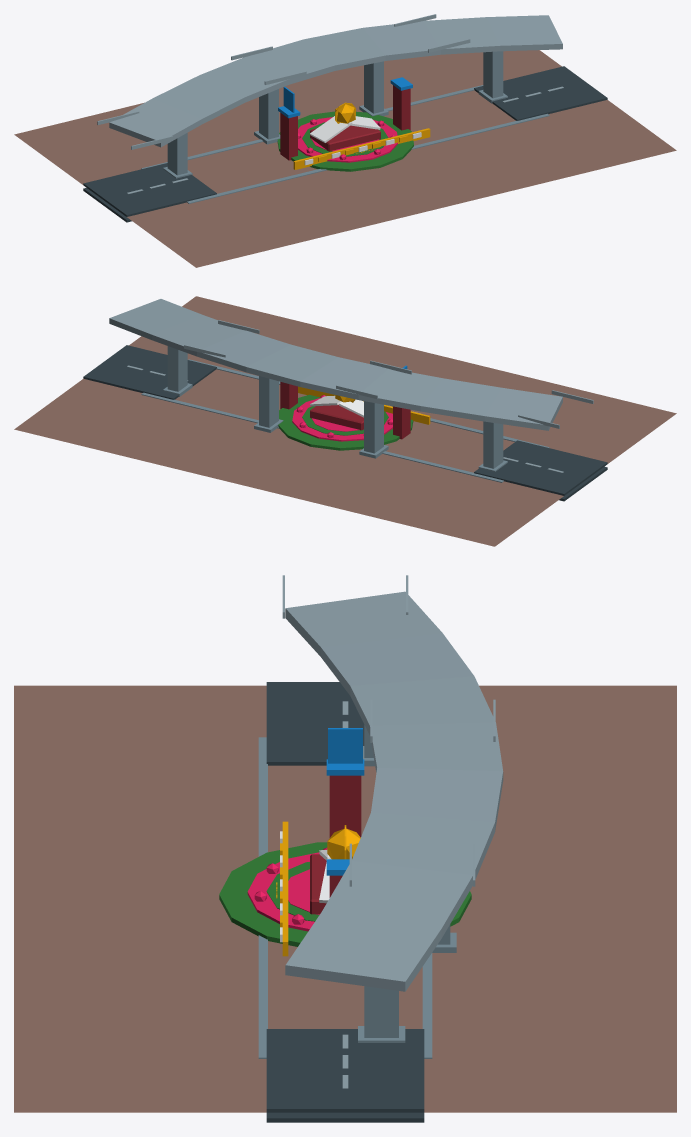
Rendered from cong_chinh.glb.
3 renders of one model, top to bottom at view 1: azimuth 30°, elevation 25°; view 2: azimuth 150°, elevation 25°; view 3: azimuth 270°, elevation 25°, orthographic. The views are drawn at different scales.
Parts seen in each view (by area): view 1: Cong_Ground, Cong_OverpassDeck, Cong_Approach_-1, Cong_Approach_1, Cong_Island, Cong_UnderWall_-1, Cong_Pier_5, Cong_FlowerOuter, Cong_MonumentBase, Cong_Pier_7, Cong_Pier_3, Cong_NamePlaque (+6 smaller); view 2: Cong_Ground, Cong_OverpassDeck, Cong_Approach_-1, Cong_Approach_1, Cong_Island, Cong_Pier_3, Cong_Pier_5, Cong_UnderWall_1, Cong_Pier_1, Cong_MonumentBase, Cong_Pier_7, Cong_FlowerOuter (+5 smaller); view 3: Cong_Ground, Cong_OverpassDeck, Cong_Approach_1, Cong_Approach_-1, Cong_Island, Cong_UnderWall_-1, Cong_Pillar_-1, Cong_UnderpassChannel, Cong_Pier_7, Cong_FlowerOuter, Cong_FactionBanner, Cong_UnderWall_1 (+2 smaller).
Part boxes in pixels (bbox=[...]): Cong_Ground: bbox=[14, 50, 676, 267]; Cong_OverpassDeck: bbox=[109, 15, 562, 147]; Cong_Approach_-1: bbox=[83, 163, 216, 216]; Cong_Approach_1: bbox=[474, 66, 607, 120]; Cong_Island: bbox=[277, 111, 413, 171]; Cong_UnderWall_-1: bbox=[187, 113, 549, 203]; Cong_Pier_5: bbox=[364, 61, 383, 113]; Cong_FlowerOuter: bbox=[298, 117, 397, 162]; Cong_MonumentBase: bbox=[310, 125, 380, 151]; Cong_Pier_7: bbox=[483, 51, 503, 98]; Cong_Pier_3: bbox=[259, 89, 278, 139]; Cong_NamePlaque: bbox=[293, 128, 430, 169]; Cong_Ground: bbox=[14, 296, 676, 546]; Cong_OverpassDeck: bbox=[109, 299, 562, 430]; Cong_Approach_-1: bbox=[474, 440, 607, 495]; Cong_Approach_1: bbox=[83, 345, 216, 399]; Cong_Island: bbox=[278, 394, 413, 450]; Cong_Pier_3: bbox=[364, 401, 383, 453]; Cong_Pier_5: bbox=[259, 376, 278, 427]; Cong_UnderWall_1: bbox=[141, 392, 503, 482]; Cong_Pier_1: bbox=[483, 421, 503, 468]; Cong_MonumentBase: bbox=[310, 404, 363, 430]; Cong_Pier_7: bbox=[167, 346, 187, 391]; Cong_FlowerOuter: bbox=[292, 398, 392, 441]; Cong_Ground: bbox=[14, 685, 676, 1112]; Cong_OverpassDeck: bbox=[285, 591, 503, 991]; Cong_Approach_1: bbox=[266, 1029, 424, 1112]; Cong_Approach_-1: bbox=[266, 682, 364, 765]; Cong_Island: bbox=[219, 842, 471, 946]; Cong_UnderWall_-1: bbox=[258, 737, 267, 1058]; Cong_Pillar_-1: bbox=[329, 775, 361, 837]; Cong_UnderpassChannel: bbox=[266, 1112, 424, 1122]; Cong_Pier_7: bbox=[364, 986, 398, 1037]; Cong_FlowerOuter: bbox=[247, 852, 319, 931]; Cong_FactionBanner: bbox=[328, 728, 362, 763]; Cong_UnderWall_1: bbox=[422, 953, 432, 1058].
Size of the model in its own units: 64 by 11.48 by 42.
